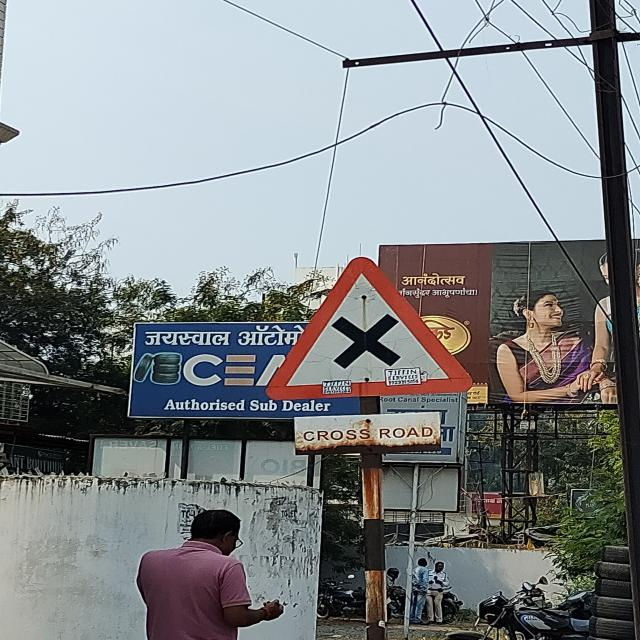CROSS_ROAD: (262, 257, 473, 399)
